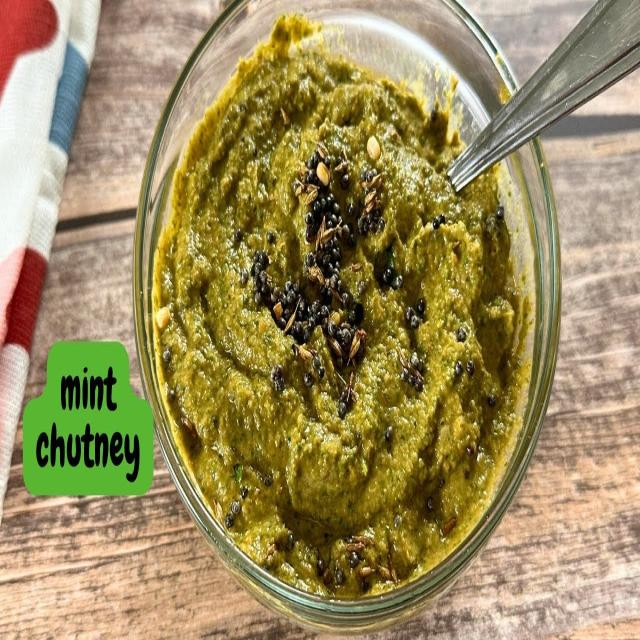puthina chutney: (137, 0, 547, 640)
